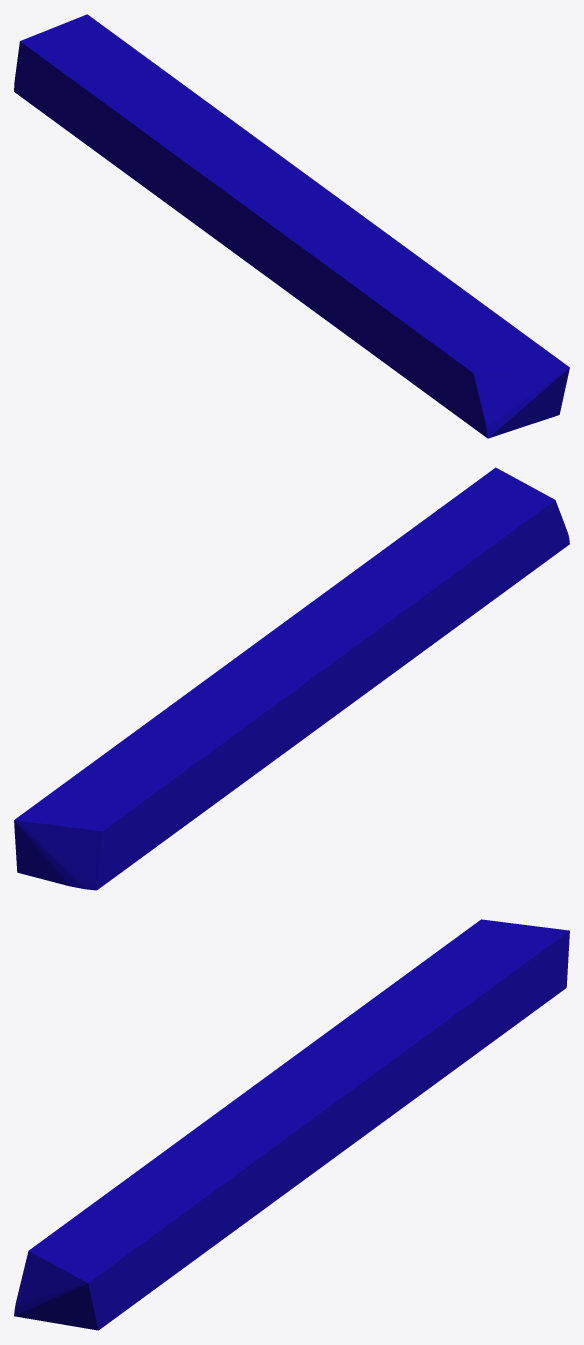
The model's file is convex_piece_5.obj.
3 renders of one model, top to bottom at view 1: azimuth 30°, elevation 25°; view 2: azimuth 150°, elevation 25°; view 3: azimuth 330°, elevation 25°, orthographic.
Bounding box in the file's own units: 0.00564 × 0.00379 × 0.0603.
